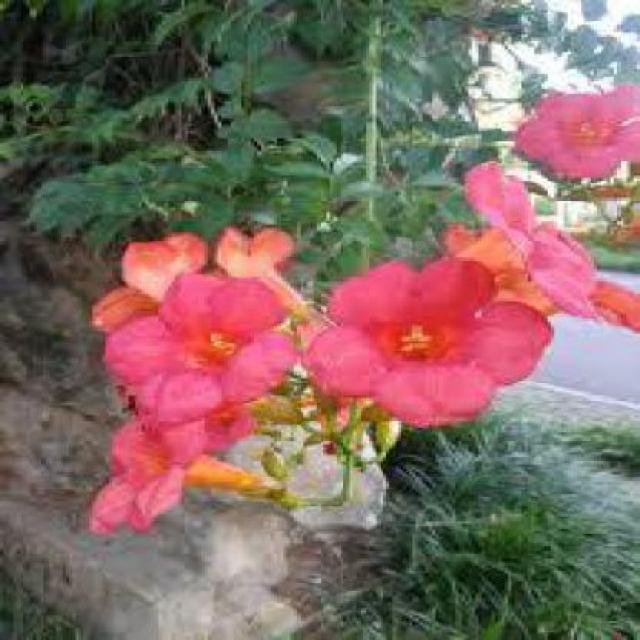flower: (307, 258, 561, 419), (79, 282, 313, 420), (510, 78, 635, 184)
